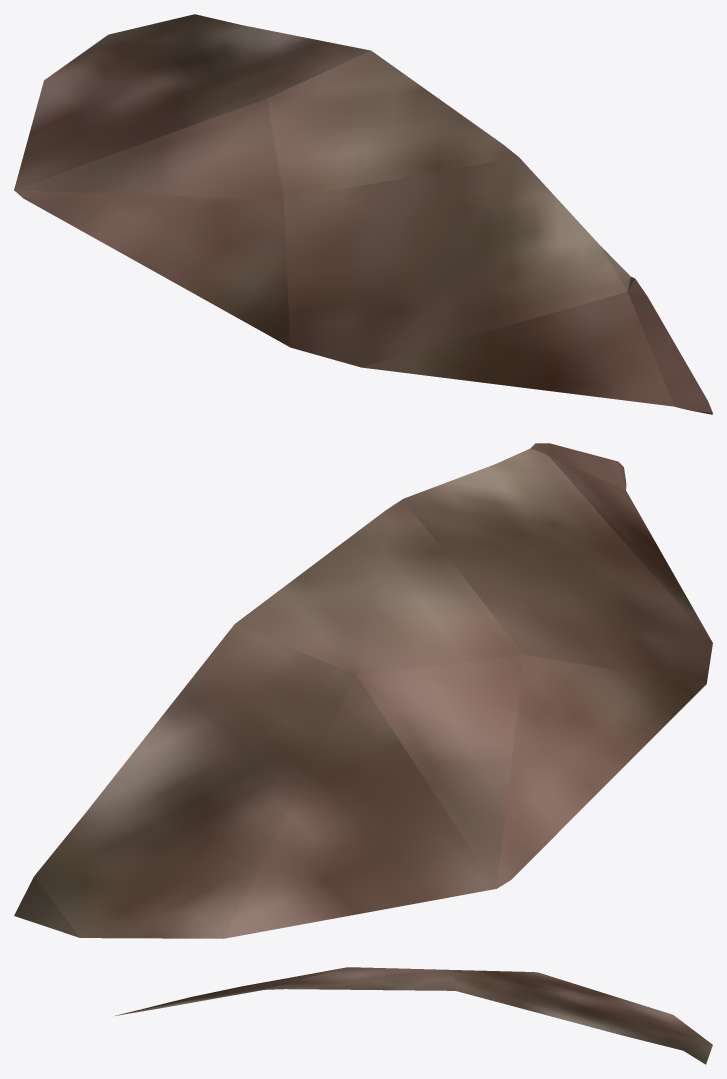
3 renders of one model, top to bottom at view 1: azimuth 30°, elevation 25°; view 2: azimuth 150°, elevation 25°; view 3: azimuth 270°, elevation 25°, orthographic. The views are drawn at different scales.
Bounding box in the file's own units: 0.0449 × 0.017 × 0.1426.
1 material, 1 textured.
